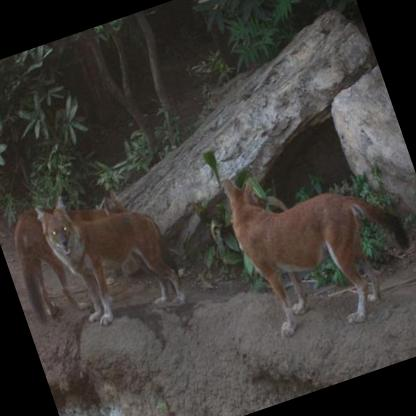dhole: (217, 128, 416, 346), (30, 164, 190, 340), (0, 177, 153, 327)
